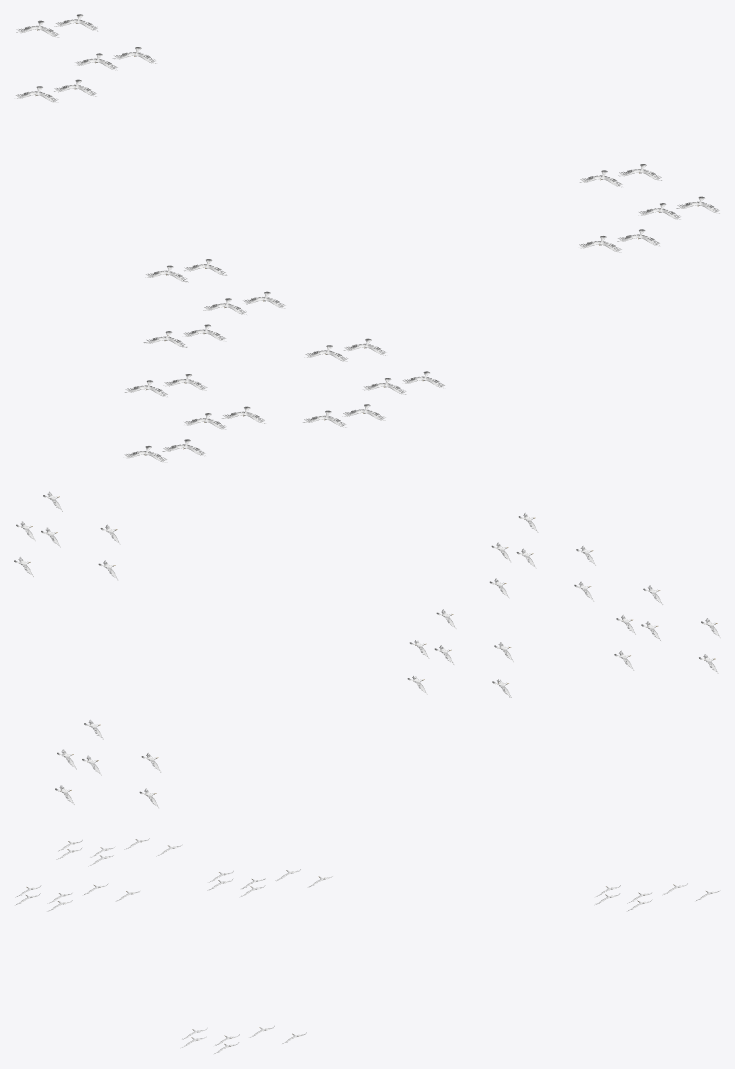
File: Seagull.glb
3 renders of one model, top to bottom at view 1: azimuth 30°, elevation 25°; view 2: azimuth 150°, elevation 25°; view 3: azimuth 270°, elevation 25°, orthographic. The views are drawn at different scales.
Visible parts, largest first — view 1: gull_Figur; view 2: gull_Figur; view 3: gull_Figur.
Boxes of the visible parts, x1,y1,x2,y2 form: gull_Figur: [15, 14, 720, 462]; gull_Figur: [14, 491, 720, 808]; gull_Figur: [14, 838, 720, 1054].
Size of the model in its own units: 33.86 by 5.27 by 40.87.
Materials: 1 (1 with a texture image).
